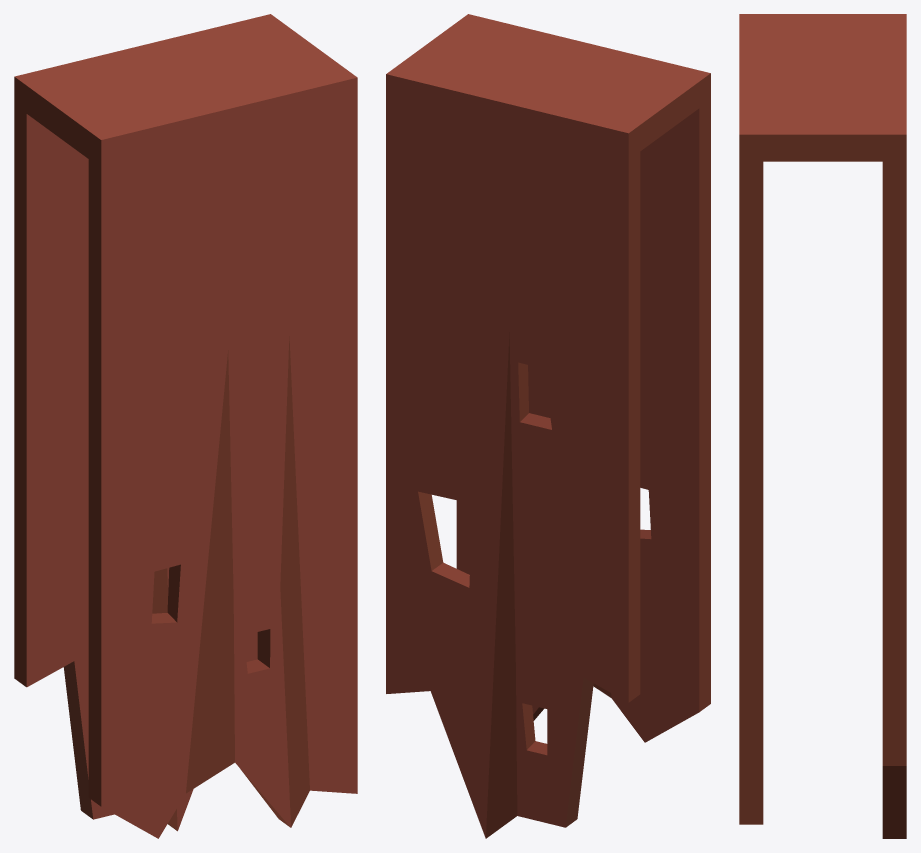
File: ST_Prop_Banner_03.fbx
3 views of the same model, side by side, from view 1: azimuth 30°, elevation 25°; view 2: azimuth 150°, elevation 25°; view 3: azimuth 270°, elevation 25° (orthographic). The views are drawn at different scales.
Parts seen in each view (by area): view 1: ST_Prop_Banner_03; view 2: ST_Prop_Banner_03; view 3: ST_Prop_Banner_03.
Part boxes in pixels (<box>): ST_Prop_Banner_03: <box>14,14,357,838</box>; ST_Prop_Banner_03: <box>386,14,710,838</box>; ST_Prop_Banner_03: <box>739,14,906,838</box>.
Bounding box in the file's own units: 1.99 × 5.8 × 1.17.
